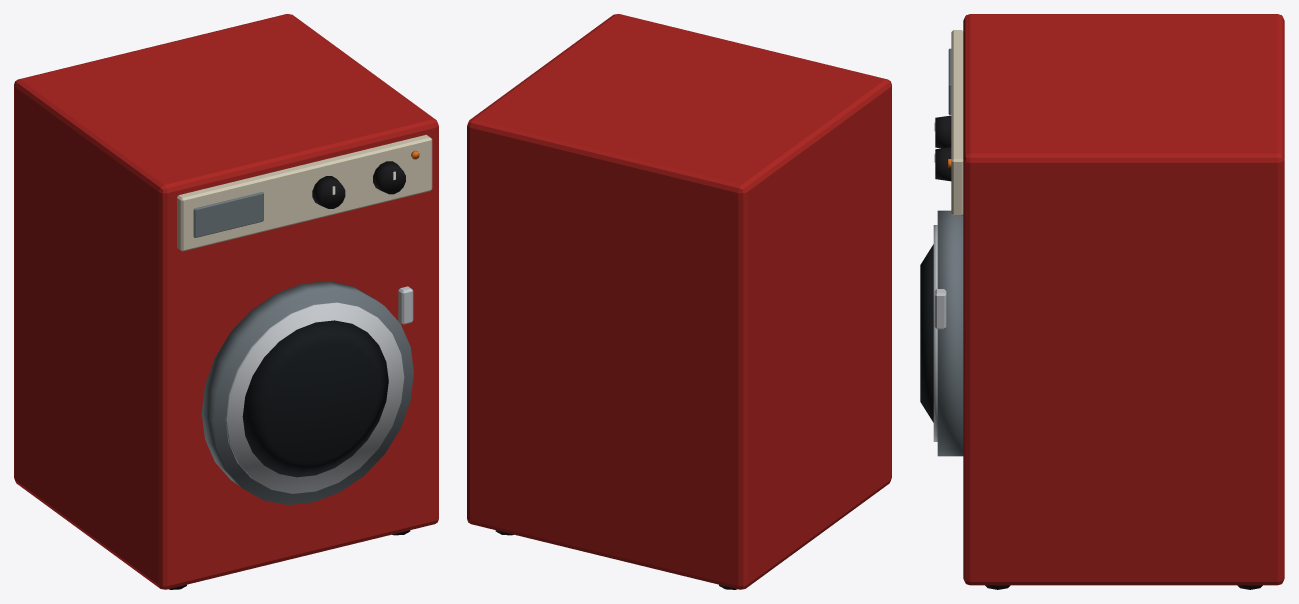
File: MaquinaDeLavar.fbx
3 views of the same model, side by side, from view 1: azimuth 30°, elevation 25°; view 2: azimuth 150°, elevation 25°; view 3: azimuth 270°, elevation 25° (orthographic). The views are drawn at different scales.
Visible parts, largest first — view 1: MaquinaDeLavar; view 2: MaquinaDeLavar; view 3: MaquinaDeLavar.
Part boxes in pixels (left/top/right/bottom): MaquinaDeLavar: left=14, top=14, right=438, bottom=589; MaquinaDeLavar: left=467, top=14, right=891, bottom=589; MaquinaDeLavar: left=920, top=14, right=1284, bottom=589.
Size of the model in its own units: 0.6 by 0.85 by 0.635.
